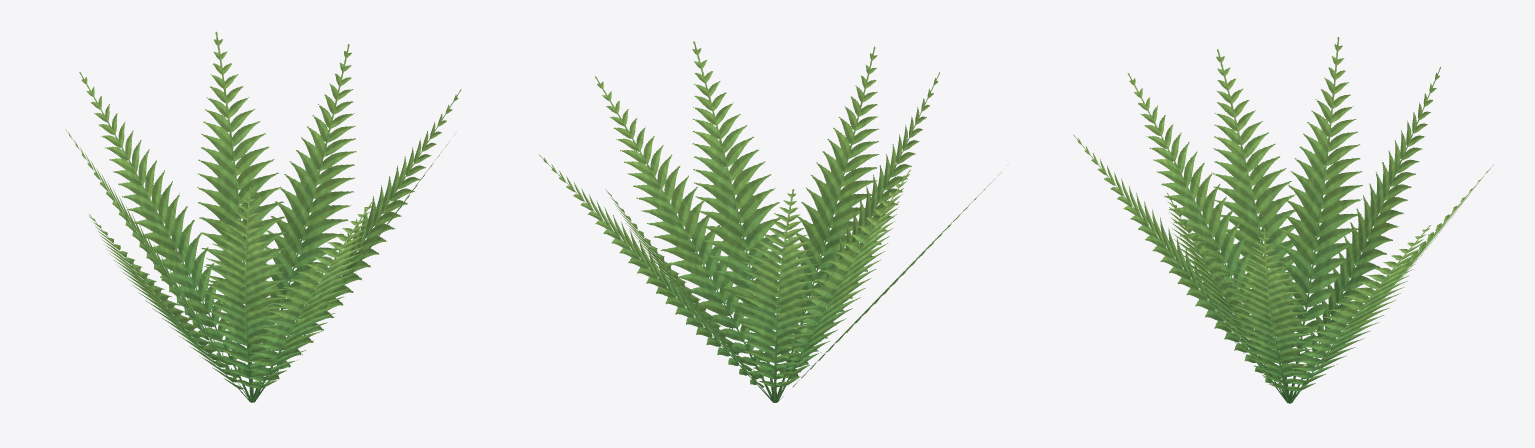
File: fern_clump.glb
3 views of the same model, side by side, from view 1: azimuth 30°, elevation 25°; view 2: azimuth 150°, elevation 25°; view 3: azimuth 270°, elevation 25° (orthographic). The views are drawn at different scales.
Visible parts, largest first — view 1: fern_clump; view 2: fern_clump; view 3: fern_clump.
Part boxes in pixels (box(x1,y1,x2,y2)): fern_clump: box(65, 31, 461, 402); fern_clump: box(539, 41, 1007, 402); fern_clump: box(1073, 37, 1493, 403).
Size of the model in its own units: 0.5443 by 0.3653 by 0.4989.
Materials: 1 (1 with a texture image).
